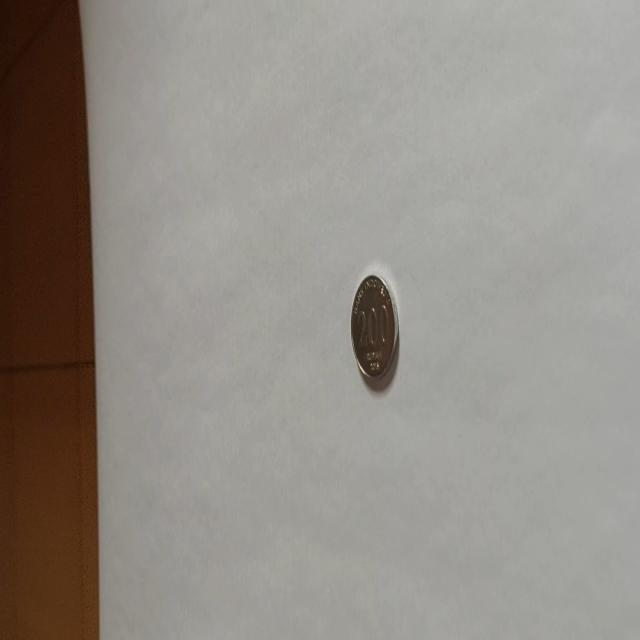dua ratus rupiah: (349, 272, 399, 382)
